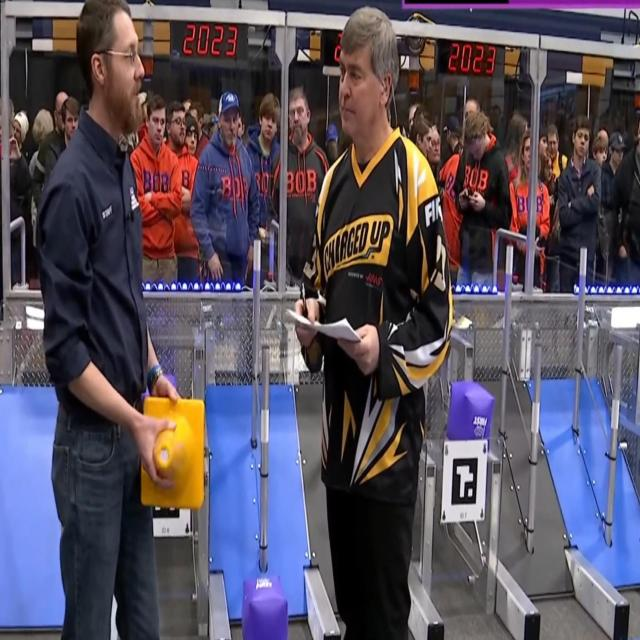frc_cone: (138, 395, 205, 511)
frc_cube: (241, 575, 289, 640), (447, 379, 493, 446)
